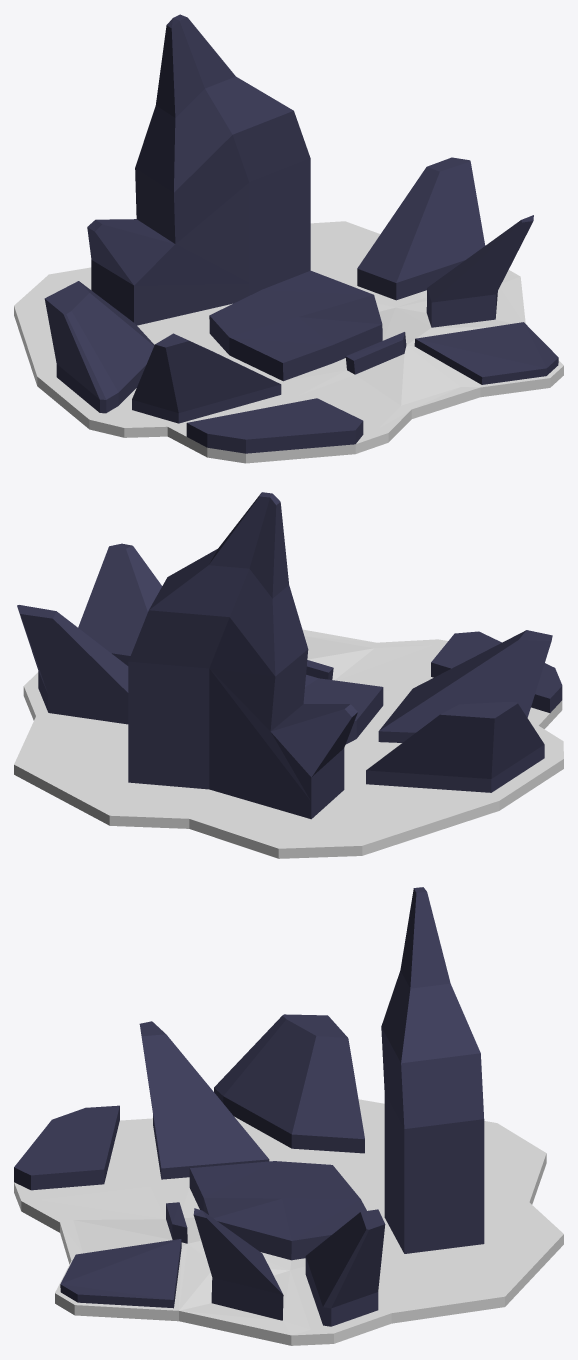
The model's file is BadRock_Low.fbx.
3 views of the same model, one above another, from view 1: azimuth 30°, elevation 25°; view 2: azimuth 150°, elevation 25°; view 3: azimuth 270°, elevation 25° (orthographic). The views are drawn at different scales.
Visible parts, largest first — view 1: BadRock_Low; view 2: BadRock_Low; view 3: BadRock_Low.
Part boxes in pixels (x1=…): BadRock_Low: x1=14, y1=14, x2=563, y2=463; BadRock_Low: x1=14, y1=492, x2=563, y2=858; BadRock_Low: x1=14, y1=887, x2=563, y2=1345.
Bounding box in the file's own units: 285 × 169 × 272.
